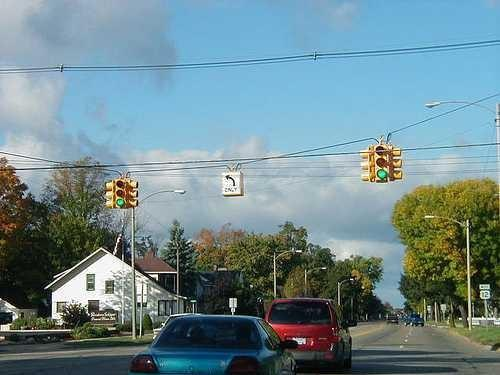2: (372, 144, 389, 182), (113, 178, 128, 210)
3: (374, 142, 386, 158), (376, 156, 388, 168), (113, 178, 126, 189), (115, 188, 126, 196)
red traffic light: (376, 168, 390, 180), (115, 198, 125, 208)
